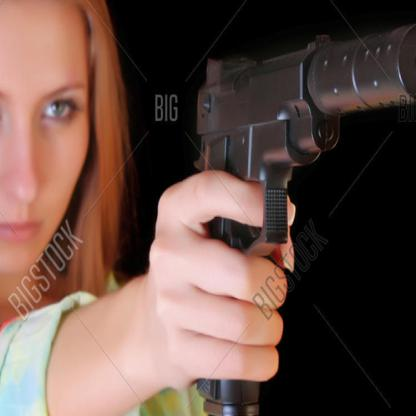gun: (173, 6, 416, 415)
